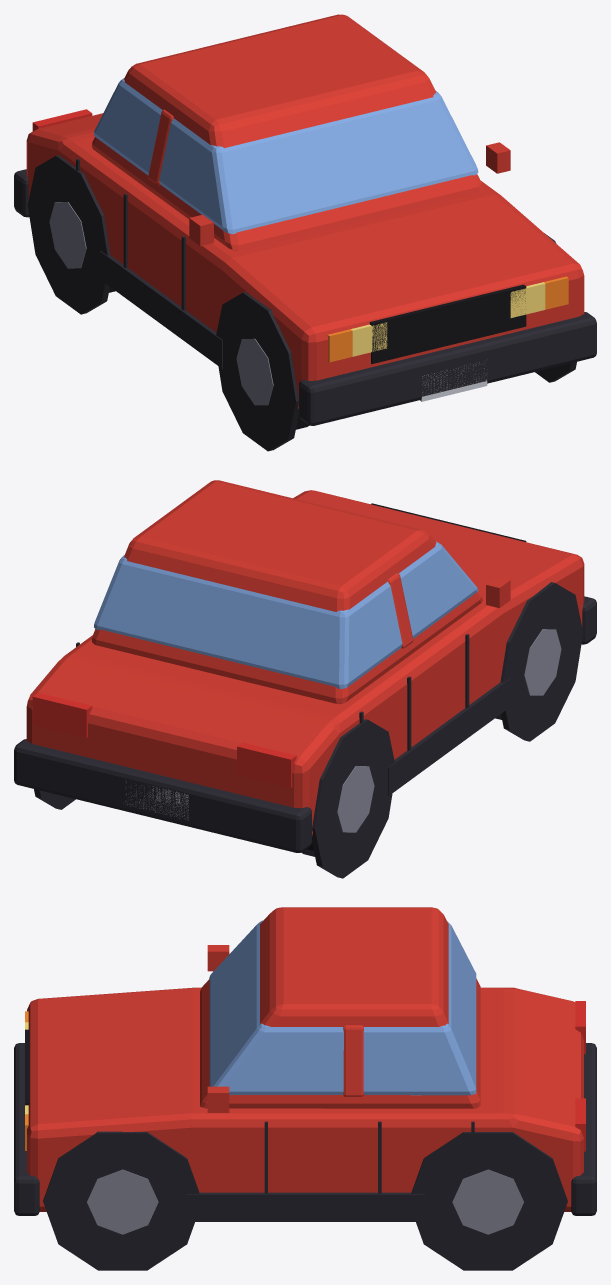
Rendered from sedan.glb.
The picture shows the model from 3 angles, top to bottom: view 1: azimuth 30°, elevation 25°; view 2: azimuth 150°, elevation 25°; view 3: azimuth 270°, elevation 25°; orthographic projection. The views are drawn at different scales.
Visible parts, largest first — view 1: Sedan; view 2: Sedan; view 3: Sedan.
Part boxes in pixels (<box>): Sedan: <box>14,14,596,451</box>; Sedan: <box>14,480,596,878</box>; Sedan: <box>14,907,596,1270</box>.
Bounding box in the file's own units: 1.61 × 1.25 × 2.68.
1 material, 1 textured.
